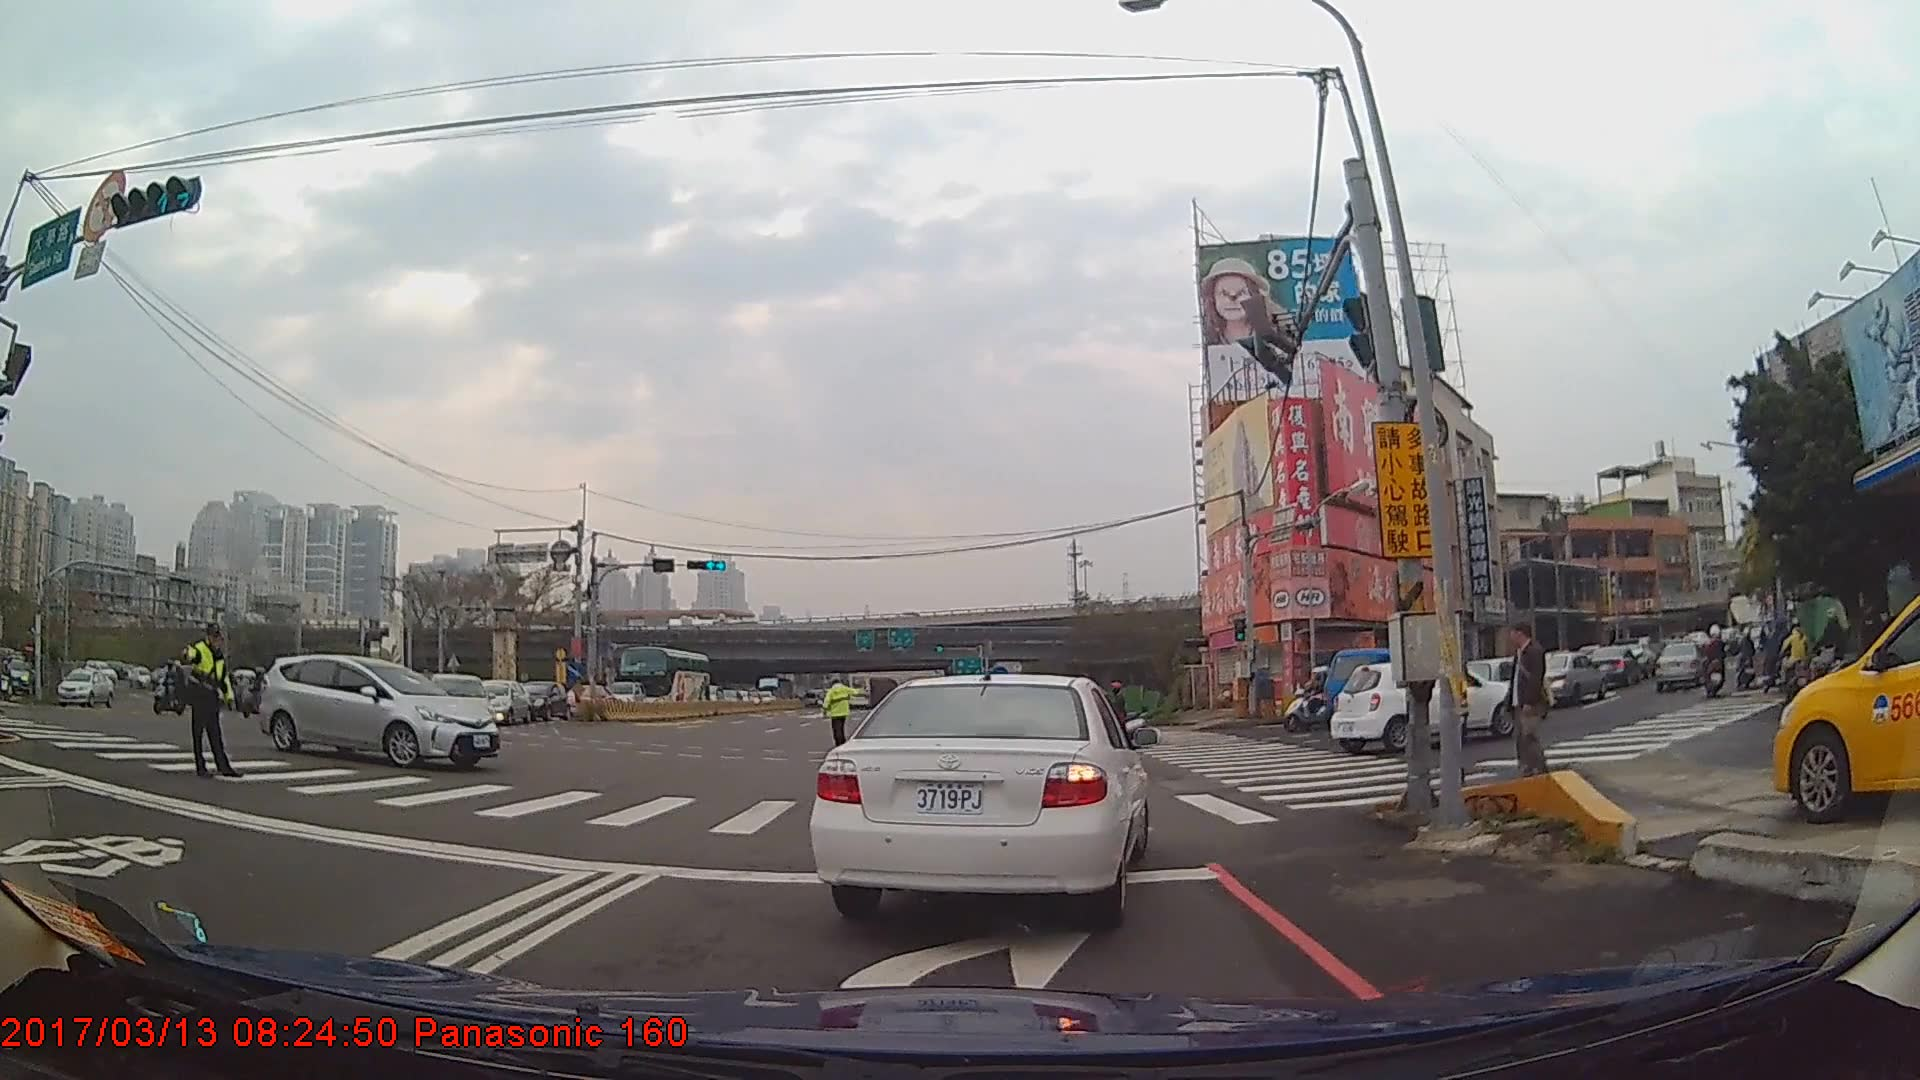pedestrian: (182, 621, 238, 778), (1506, 620, 1557, 778), (1436, 640, 1486, 795), (822, 674, 862, 754)
rider: (1800, 604, 1854, 697), (1077, 681, 1146, 747), (1287, 664, 1342, 733), (1777, 614, 1818, 695), (1762, 621, 1795, 697), (151, 658, 192, 716), (1704, 623, 1730, 697), (242, 665, 276, 720), (1736, 627, 1759, 691)
vehicle: (810, 672, 1148, 930), (1772, 578, 1920, 823), (262, 652, 504, 770), (1330, 655, 1522, 753), (617, 643, 711, 709), (1533, 649, 1606, 704), (1652, 638, 1707, 694), (51, 664, 114, 707), (477, 677, 531, 723), (515, 677, 571, 719), (1586, 643, 1641, 685)
